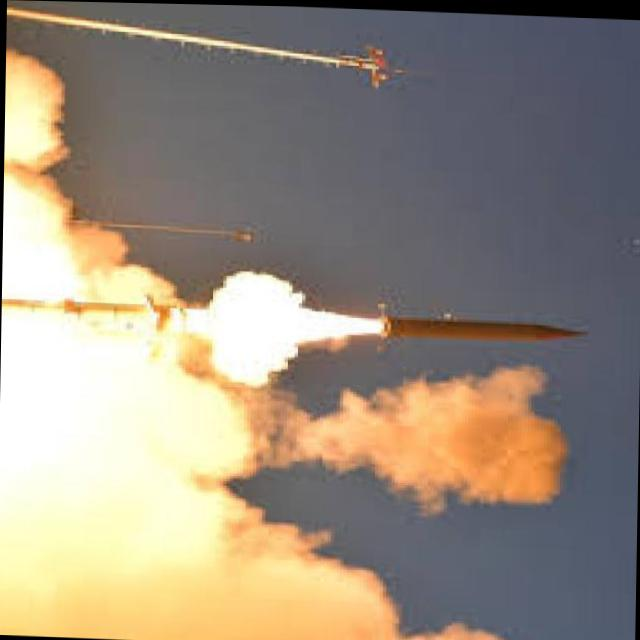missile: (376, 305, 596, 351)
